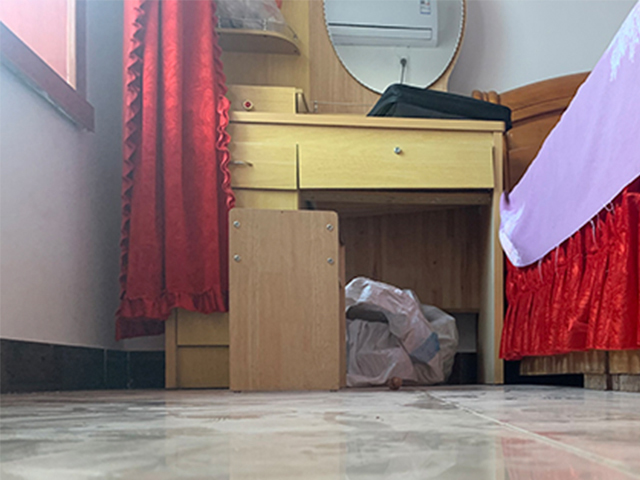bed: (472, 1, 640, 394)
curtain: (115, 1, 232, 340)
stool: (229, 207, 347, 392)
table: (215, 113, 508, 393)
